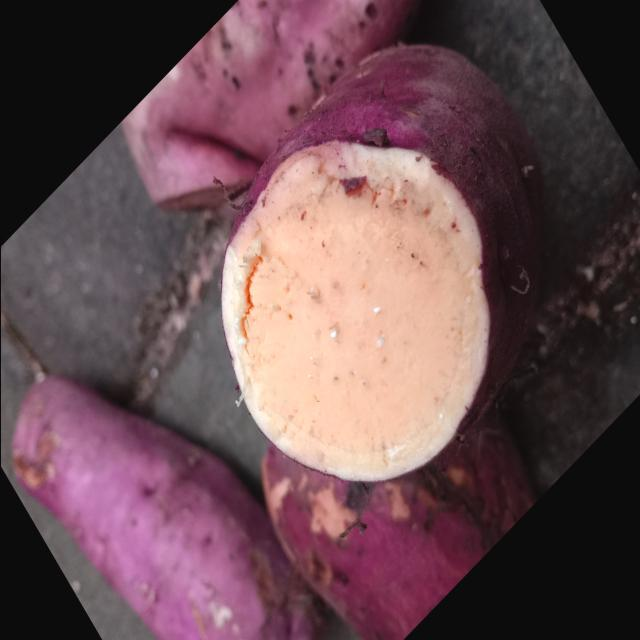Healthy Sweet Potato: (230, 142, 489, 480)
